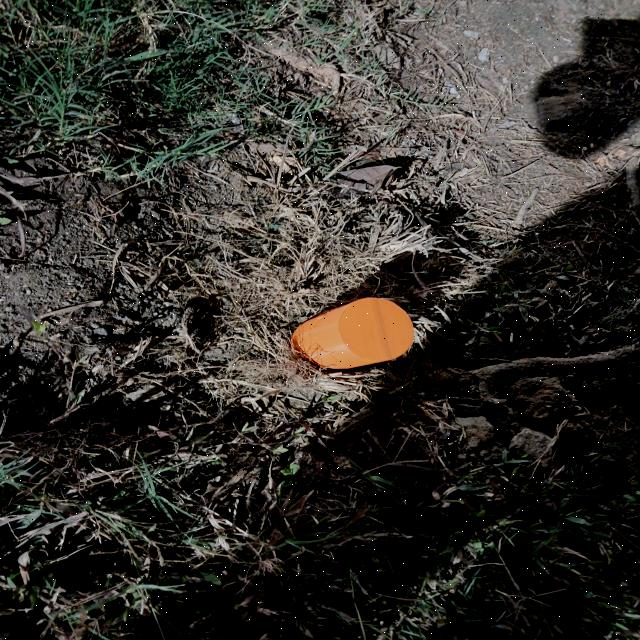Cylinder: (289, 296, 415, 371)
